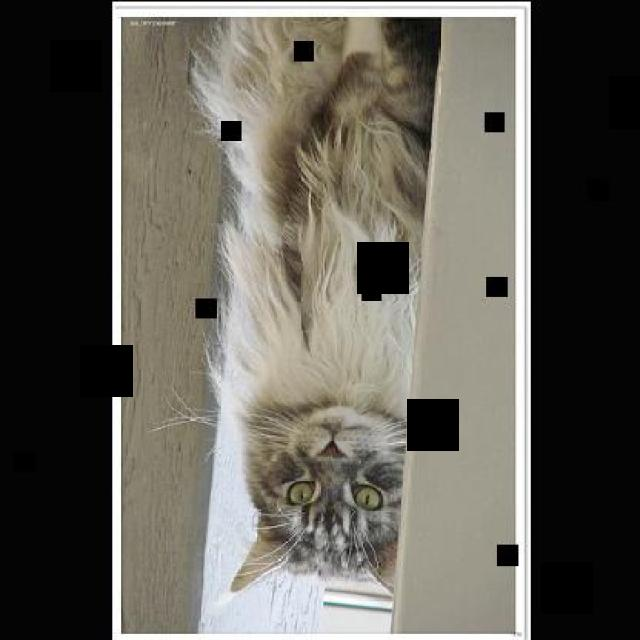unauthorized: (149, 16, 440, 598)
